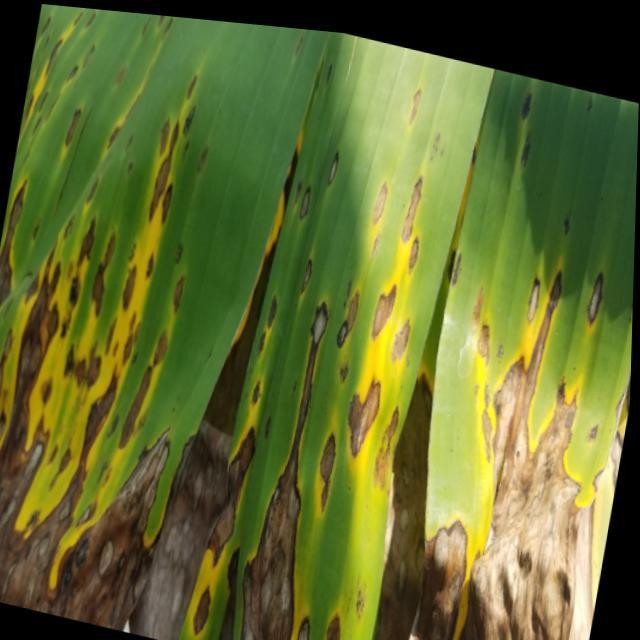Early_rust: (12, 5, 640, 640)
